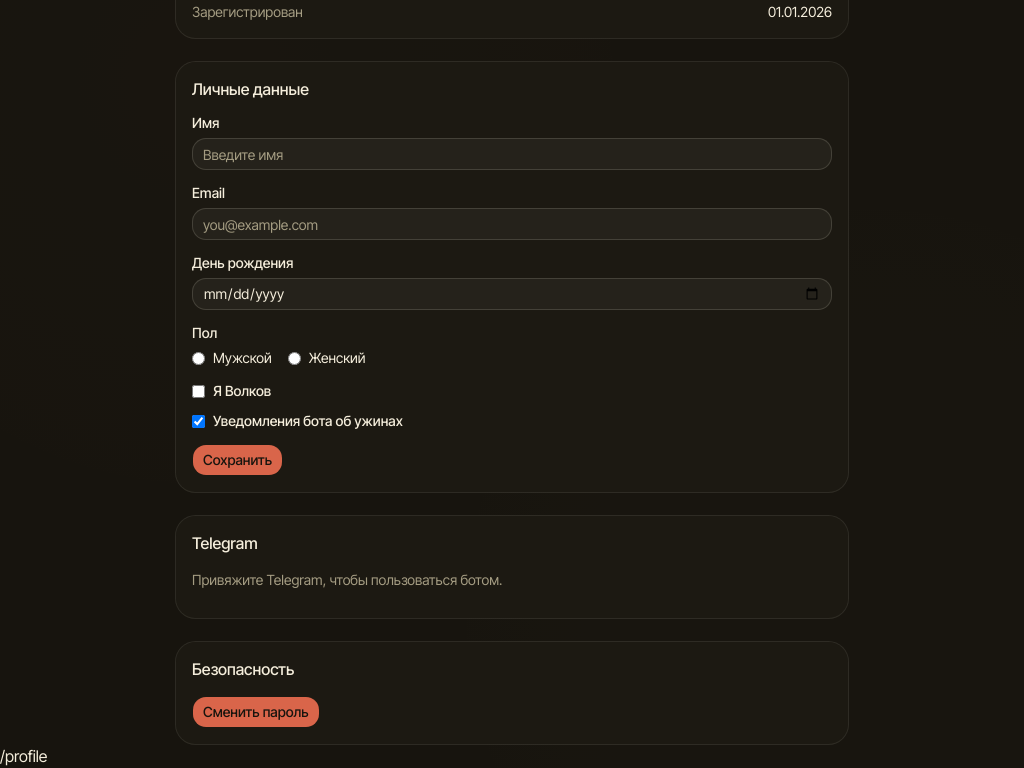
ProfilePage › кнопка 'Сменить пароль' открывает диалог
(page scrolled)
Click the button "Сменить пароль" at (256, 712), box [192, 696, 320, 728]
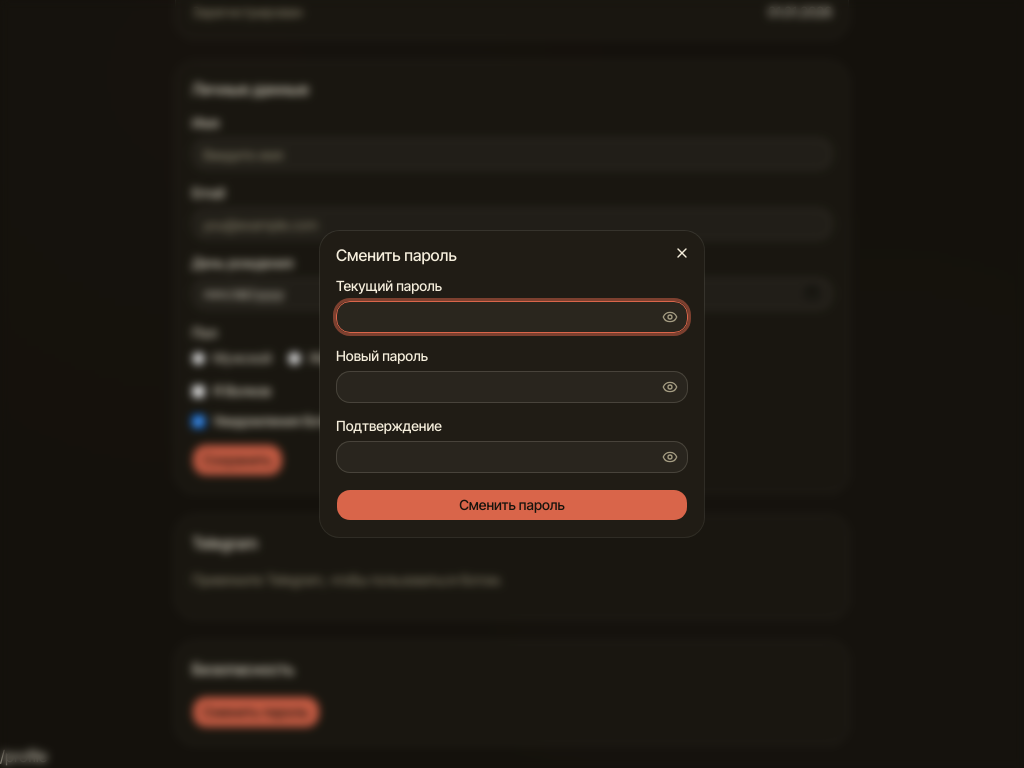
Now the dialog is shown, box [320, 231, 704, 537]
